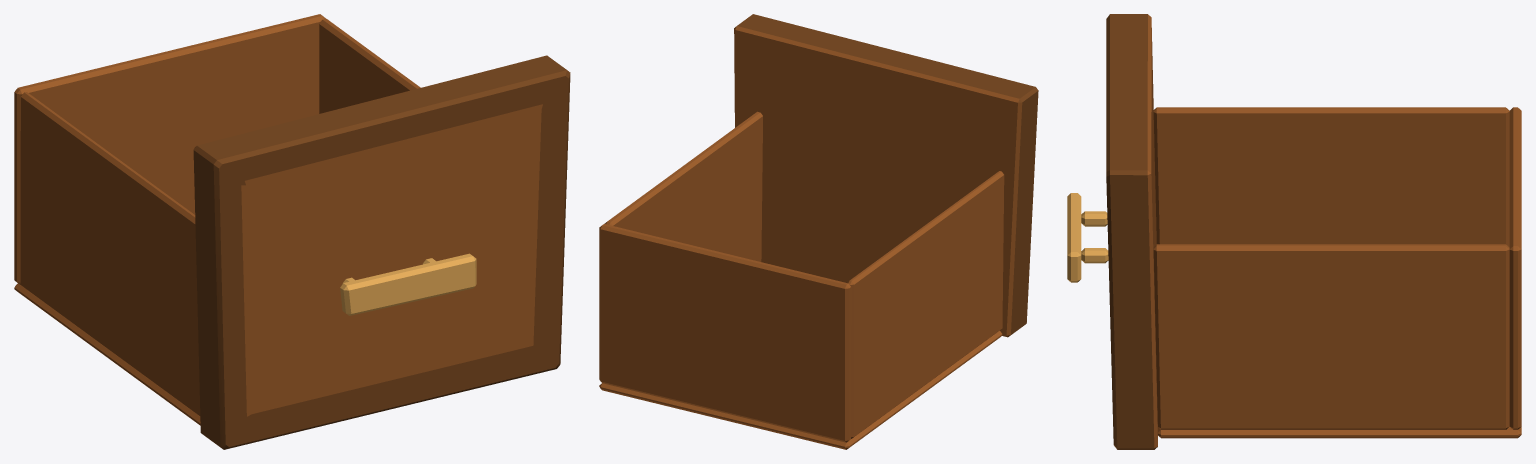
File: File_cabinet_Box_6.fbx
3 renders of one model, left to right at view 1: azimuth 30°, elevation 25°; view 2: azimuth 150°, elevation 25°; view 3: azimuth 270°, elevation 25°, orthographic. The views are drawn at different scales.
Parts seen in each view (by area): view 1: File_cabinet_Box_6; view 2: File_cabinet_Box_6; view 3: File_cabinet_Box_6.
Boxes of the visible parts, x1=… form: File_cabinet_Box_6: x1=14, y1=14, x2=570, y2=449; File_cabinet_Box_6: x1=599, y1=14, x2=1038, y2=449; File_cabinet_Box_6: x1=1067, y1=14, x2=1521, y2=449.
Size of the model in its own units: 0.4473 by 0.3599 by 0.5242.
